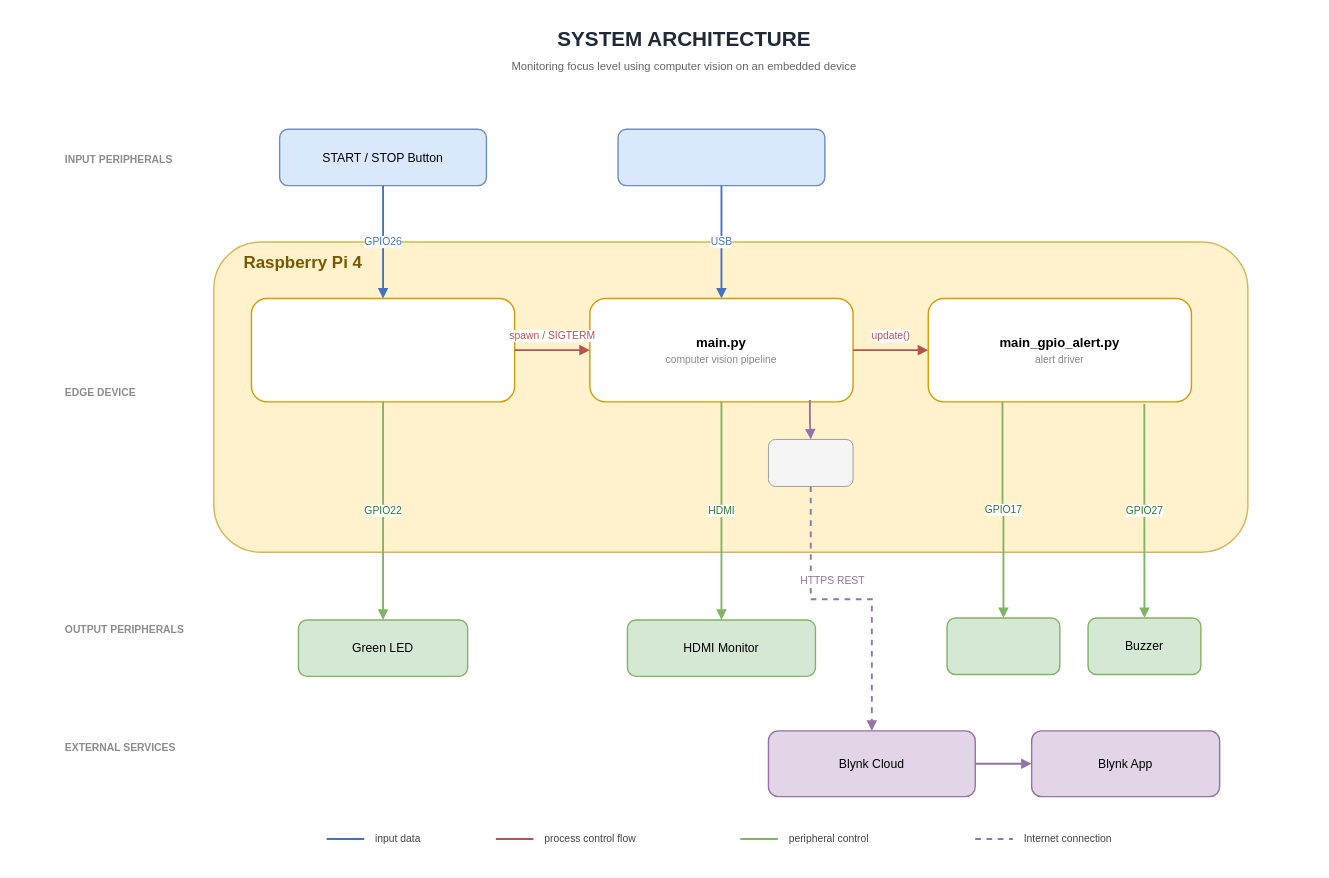
This 1329x878 diagram has some shape labels left out. The centre of each missing label's shape, as x and y in pixels:
"pi_controller.py lifecycle management" belongs at [382,349].
"Webcam" belongs at [721,157].
"Wi-Fi" belongs at [810,462].
"Yellow LED" belongs at [1003,646].
